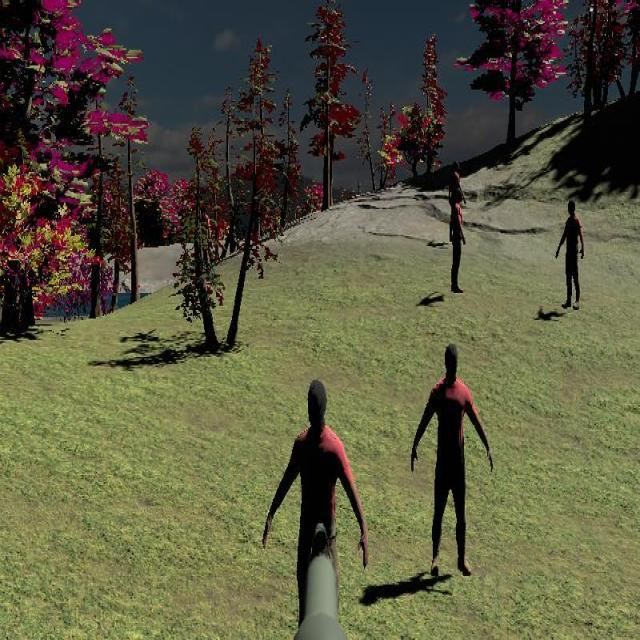Human: (261, 375, 370, 637), (409, 342, 493, 580), (450, 188, 466, 293)
